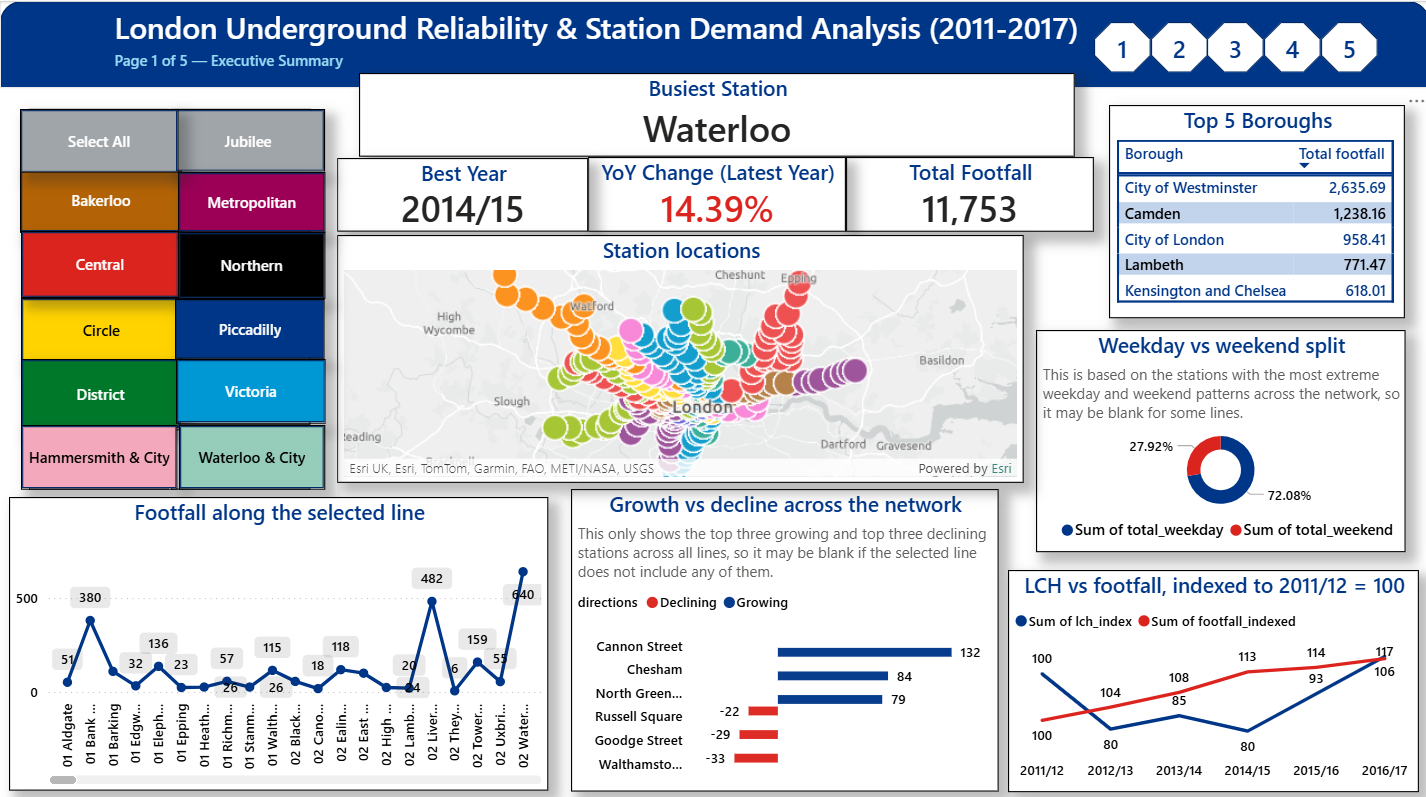

What the dashboard file says about the page in this screenshot:
{"tool":"powerbi","page":{"name":"Summary","canvas":[1280,720],"ordinal":0},"visuals":[{"type":"group","id":"g1","title":"Group 1","box":[0,0,1280.4,78.2],"z":0},{"type":"shape","box":[979.8,19.2,50.8,45.3],"z":0,"group":"g3"},{"type":"shape","box":[17.9,149.7,145,57.5],"z":0,"group":"g2"},{"type":"shape","box":[1030.6,19.2,50.8,45.3],"z":1000,"group":"g3"},{"type":"card","title":"Busiest Station","fields":{"Values":["DateTable.Busiest Station"]},"box":[321.8,64.4,641.2,75.1],"z":1000},{"type":"shape","box":[18.6,266,143.8,57.5],"z":1000,"group":"g2"},{"type":"shape","box":[1081.4,19.2,50.8,45.3],"z":2000,"group":"g3"},{"type":"card","title":"Total Footfall","fields":{"Values":["Sum(Borough totals.total_footfall)"]},"box":[758,139.4,221.7,66.7],"z":2000},{"type":"shape","box":[19.1,206,141.4,59.9],"z":2000,"group":"g2"},{"type":"shape","box":[1132.1,19.2,50.8,45.3],"z":3000,"group":"g3"},{"type":"card","title":"YoY Change (Latest Year)","fields":{"Values":["DateTable.YoY Change (Latest Year)"]},"box":[526.8,139.4,231.2,66.7],"z":3000},{"type":"shape","box":[19.1,321.1,142.6,62.3],"z":3000,"group":"g2"},{"type":"shape","box":[1182.9,19.2,50.8,45.3],"z":4000,"group":"g3"},{"type":"card","title":"Best Year","fields":{"Values":["DateTable.Best Year"]},"box":[301.5,140.6,225.3,65.5],"z":4000},{"type":"shape","box":[19.1,379.8,140.2,57.5],"z":4000,"group":"g2"},{"type":"tableEx","title":"Top 5 Boroughs","fields":{"Values":["Borough totals.borough","Sum(Borough totals.total_footfall)"]},"box":[993.6,93.5,264.9,190.6],"z":5000},{"type":"shape","box":[153.4,97.2,137.8,56.3],"z":5000,"group":"g2"},{"type":"shape","box":[0,0,1280.4,78.2],"z":6000,"group":"g1"},{"type":"shape","box":[159.2,153.7,131.8,53.9],"z":6000,"group":"g2"},{"type":"donutChart","title":"Weekday vs weekend split","fields":{"Y":["Sum(weekday vs  weekend ratio.total_weekday)","Sum(weekday vs  weekend ratio.total_weekend)"]},"box":[927.6,294.8,330.8,199],"z":6000},{"type":"textbox","box":[97.4,0,882.4,49.4],"z":7000,"group":"g1"},{"type":"shape","box":[159.4,207.4,131.8,59.9],"z":7000,"group":"g2"},{"type":"clusteredBarChart","title":"Growth vs decline across the network","fields":{"Category":["growing vs declining 3.station"],"Y":["Sum(growing vs declining 3.pct_growth)"],"Series":["growing vs declining 3.directions"]},"box":[511.3,437.4,382.6,270.5],"z":7000},{"type":"textbox","box":[97.3,39.1,425.2,39.1],"z":8000,"group":"g1"},{"type":"shape","box":[157,267.4,134.2,53.9],"z":8000,"group":"g2"},{"type":"lineChart","title":"LCH vs footfall, indexed to 2011/12 = 100","fields":{"Category":["lch_vs_footfall.financial_year"],"Y2":["Sum(lch_vs_footfall.footfall_indexed)"],"Y":["Sum(lch_vs_footfall.lch_index)"]},"box":[902.5,509.4,367.9,199],"z":8000},{"type":"esriVisual","title":"Station locations","fields":{"Latitude":["Map data.latitude"],"Longitude":["Map data.longitude"],"Size":["clean_station_footfall.Station Footfall"],"Color":["Map data.Primary Line"]},"box":[301.5,209.8,615,221.7],"z":9000},{"type":"shape","box":[157.5,321.1,134.2,57.5],"z":9000,"group":"g2"},{"type":"slicer","fields":{"Values":["Station-line sequence.line"]},"box":[0,89.9,302,354.8],"z":10000},{"type":"shape","box":[159.9,380.2,130.6,57.5],"z":10000,"group":"g2"},{"type":"group","id":"g2","title":"Group 2","box":[17.9,97,273.9,340.7],"z":11000},{"type":"shape","title":"Select All","box":[17.9,97,141.7,57.4],"z":11000,"group":"g2"},{"type":"lineChart","title":"Footfall along the selected line","fields":{"Y":["clean_station_footfall.Station Footfall"],"Category":["Station-line sequence.Station Sequence Label"]},"box":[8.3,444.5,482.7,263.4],"z":12000},{"type":"group","id":"g3","title":"Group 3","box":[979.8,19.2,253.9,45.3],"z":13000}]}

Visuals, with their boxes in screenshot pixels (x1, y1, x2, y2), scaled from the page's 1280x720 canvas onto the 1426x797 screenshot:
"Group 1" group: (left=0, top=0, right=1425, bottom=87)
shape: (left=1092, top=21, right=1148, bottom=71)
shape: (left=20, top=166, right=181, bottom=229)
shape: (left=1148, top=21, right=1205, bottom=71)
"Busiest Station" card: (left=359, top=71, right=1073, bottom=154)
shape: (left=21, top=294, right=181, bottom=358)
shape: (left=1205, top=21, right=1261, bottom=71)
"Total Footfall" card: (left=844, top=154, right=1091, bottom=228)
shape: (left=21, top=228, right=179, bottom=294)
shape: (left=1261, top=21, right=1318, bottom=71)
"YoY Change (Latest Year)" card: (left=587, top=154, right=844, bottom=228)
shape: (left=21, top=355, right=180, bottom=424)
shape: (left=1318, top=21, right=1374, bottom=71)
"Best Year" card: (left=336, top=156, right=587, bottom=228)
shape: (left=21, top=420, right=177, bottom=484)
"Top 5 Boroughs" tableEx: (left=1107, top=103, right=1402, bottom=314)
shape: (left=171, top=108, right=324, bottom=170)
shape: (left=0, top=0, right=1425, bottom=87)
shape: (left=177, top=170, right=324, bottom=230)
"Weekday vs weekend split" donutChart: (left=1033, top=326, right=1402, bottom=547)
textbox: (left=109, top=0, right=1092, bottom=55)
shape: (left=178, top=230, right=324, bottom=296)
"Growth vs decline across the network" clusteredBarChart: (left=570, top=484, right=996, bottom=784)
textbox: (left=108, top=43, right=582, bottom=87)
shape: (left=175, top=296, right=324, bottom=356)
"LCH vs footfall, indexed to 2011/12 = 100" lineChart: (left=1005, top=564, right=1415, bottom=784)
"Station locations" esriVisual: (left=336, top=232, right=1021, bottom=478)
shape: (left=175, top=355, right=325, bottom=419)
slicer - Station-line sequence.line: (left=0, top=100, right=336, bottom=492)
shape: (left=178, top=421, right=324, bottom=485)
"Group 2" group: (left=20, top=107, right=325, bottom=485)
"Select All" shape: (left=20, top=107, right=178, bottom=171)
"Footfall along the selected line" lineChart: (left=9, top=492, right=547, bottom=784)
"Group 3" group: (left=1092, top=21, right=1374, bottom=71)
